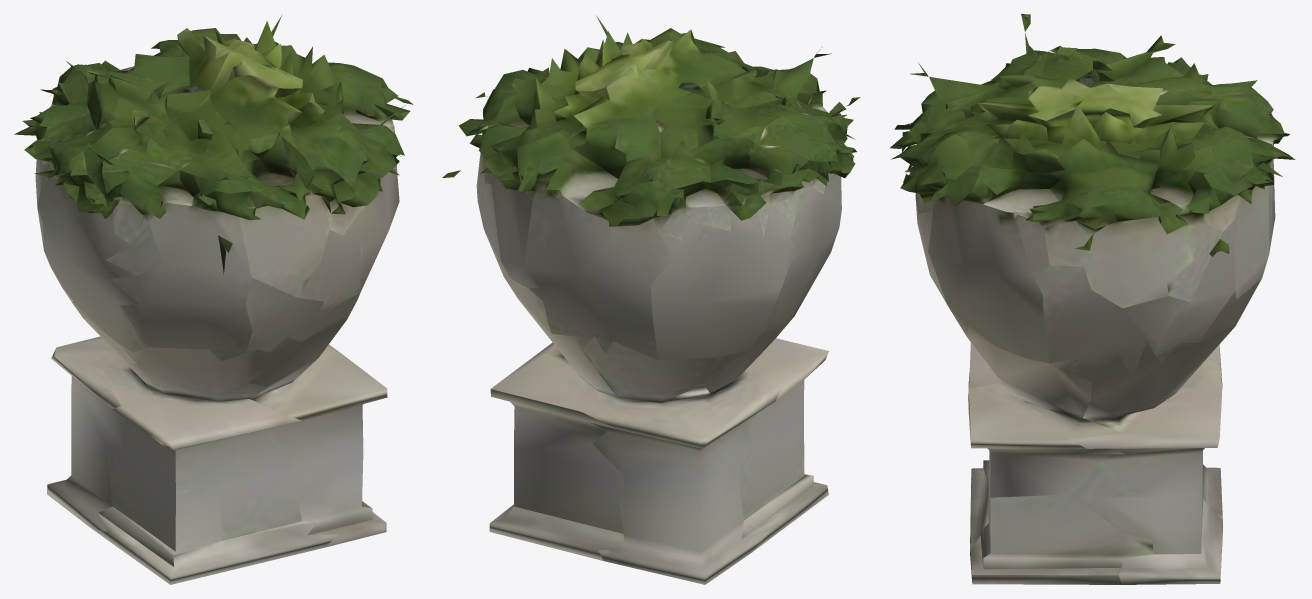
The model's file is pot_besar_lod2.glb.
3 renders of one model, left to right at view 1: azimuth 30°, elevation 25°; view 2: azimuth 150°, elevation 25°; view 3: azimuth 270°, elevation 25°, orthographic.
Visible parts, largest first — view 1: tripo_node_5881c053-eda5-463e-b9ab-4c4d3b496414; view 2: tripo_node_5881c053-eda5-463e-b9ab-4c4d3b496414; view 3: tripo_node_5881c053-eda5-463e-b9ab-4c4d3b496414.
Part boxes in pixels (left/top/right/bottom): tripo_node_5881c053-eda5-463e-b9ab-4c4d3b496414: left=14, top=15, right=413, bottom=584; tripo_node_5881c053-eda5-463e-b9ab-4c4d3b496414: left=442, top=15, right=860, bottom=584; tripo_node_5881c053-eda5-463e-b9ab-4c4d3b496414: left=890, top=14, right=1295, bottom=584.
Bounding box in the file's own units: 0.8353 × 0.9996 × 0.8052.
Materials: 1 (1 with a texture image).
